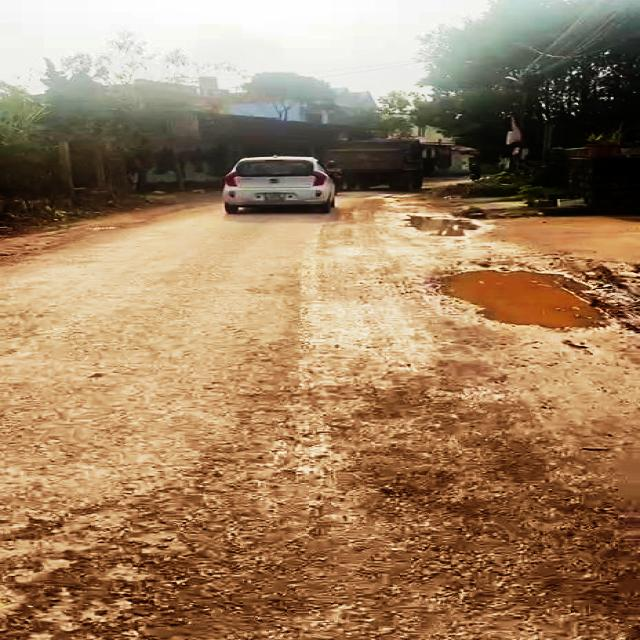pothole: (426, 268, 618, 338), (403, 212, 491, 240)
